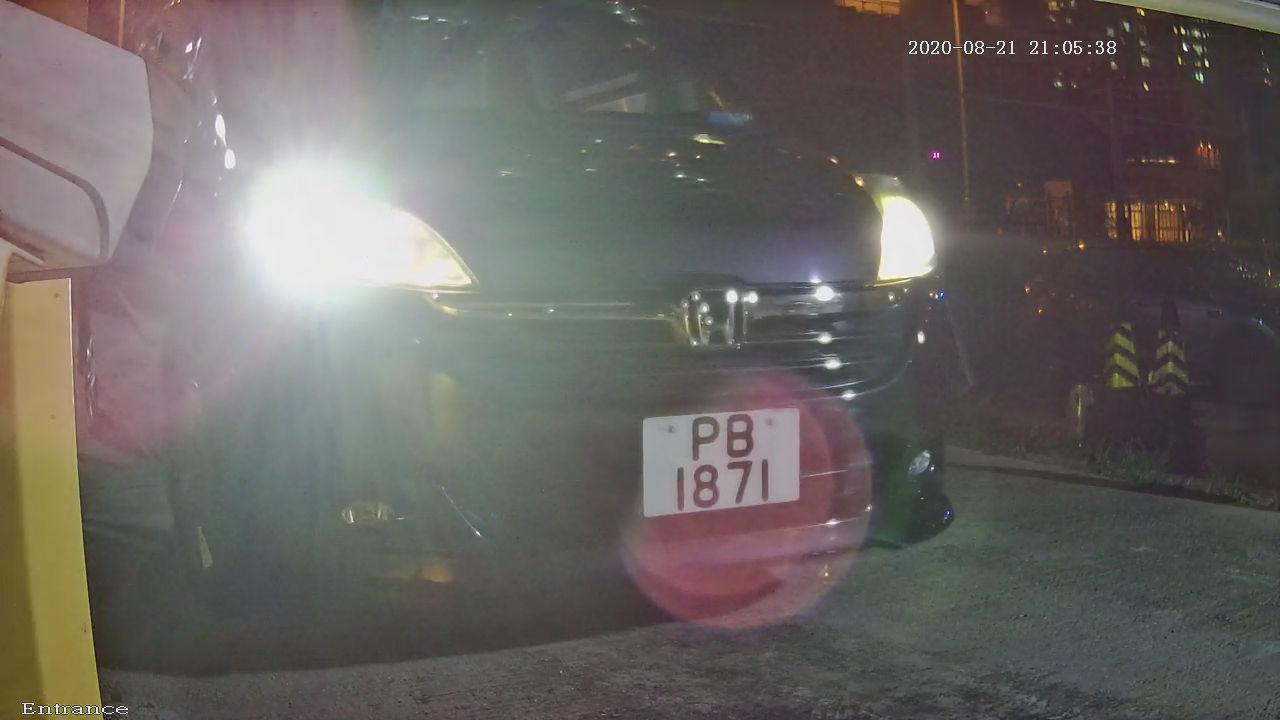Car: (1, 10, 1046, 672)
License Plate: (606, 393, 823, 537)
